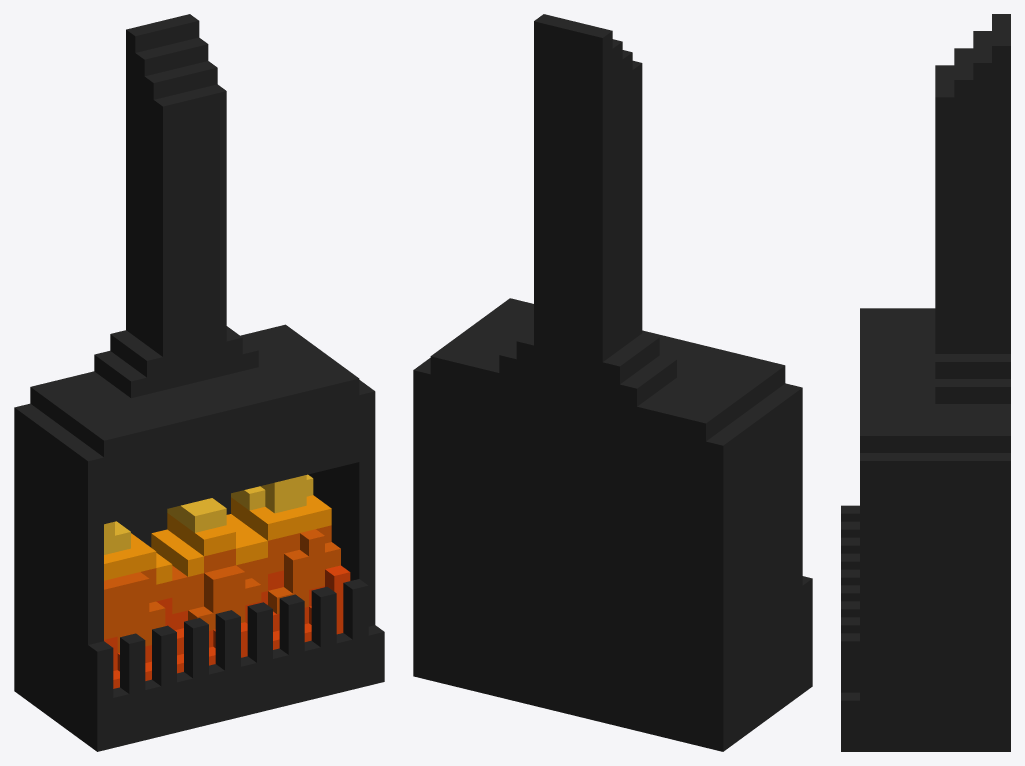
File: fireplace.obj
3 renders of one model, left to right at view 1: azimuth 30°, elevation 25°; view 2: azimuth 150°, elevation 25°; view 3: azimuth 270°, elevation 25°, orthographic. The views are drawn at different scales.
Bounding box in the file's own units: 1.8 × 3.8 × 0.9.
1 material, 1 textured.
